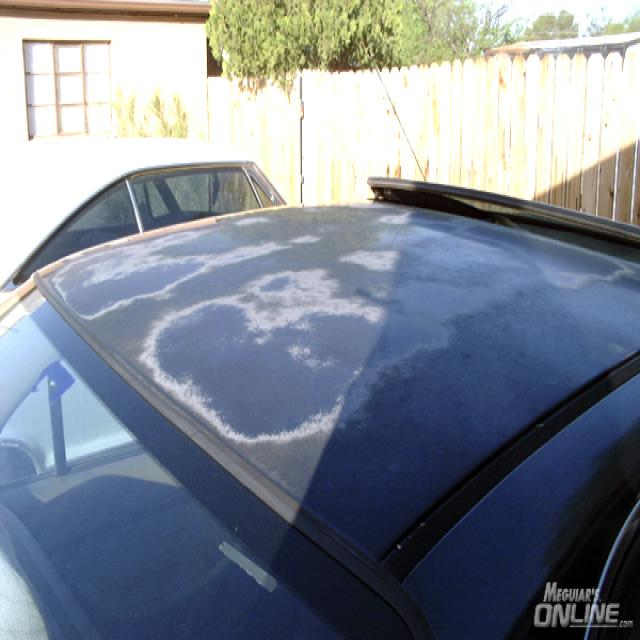scratch: (43, 206, 631, 453)
